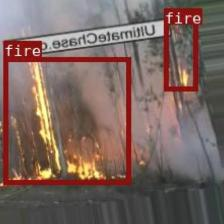fire: (3, 57, 130, 183), (164, 7, 196, 91)
